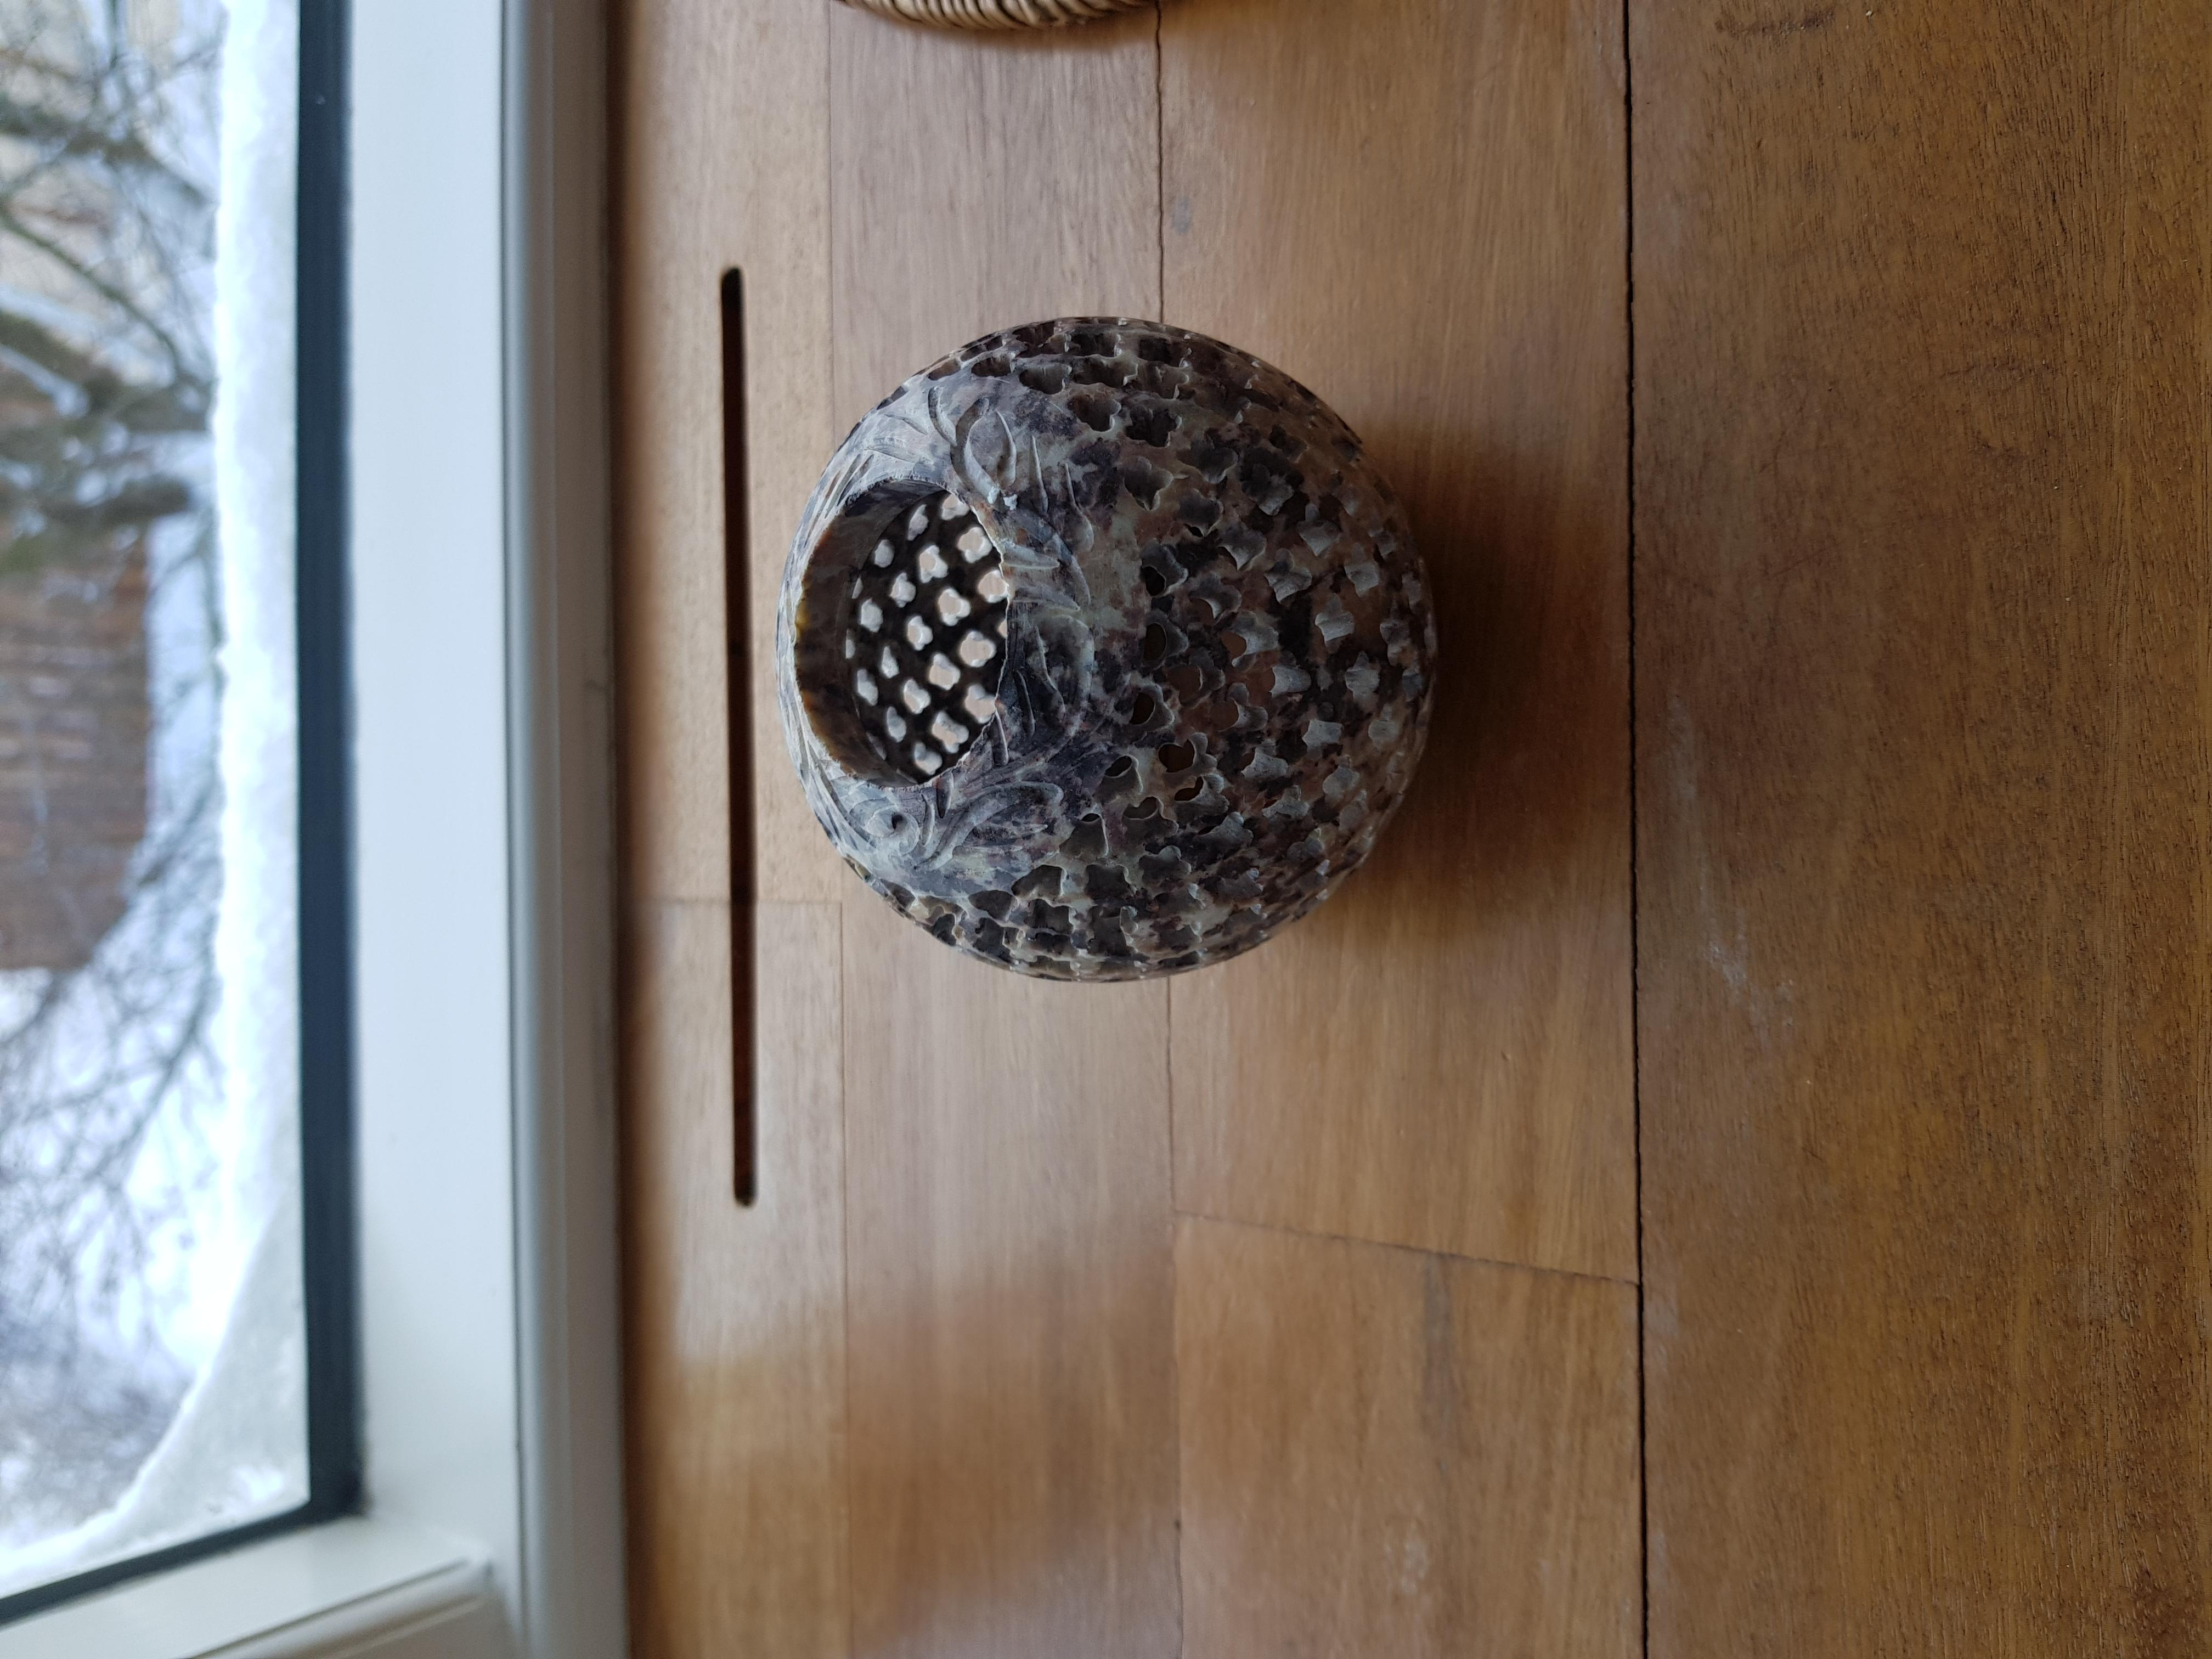sphere: (787, 295, 1433, 983)
